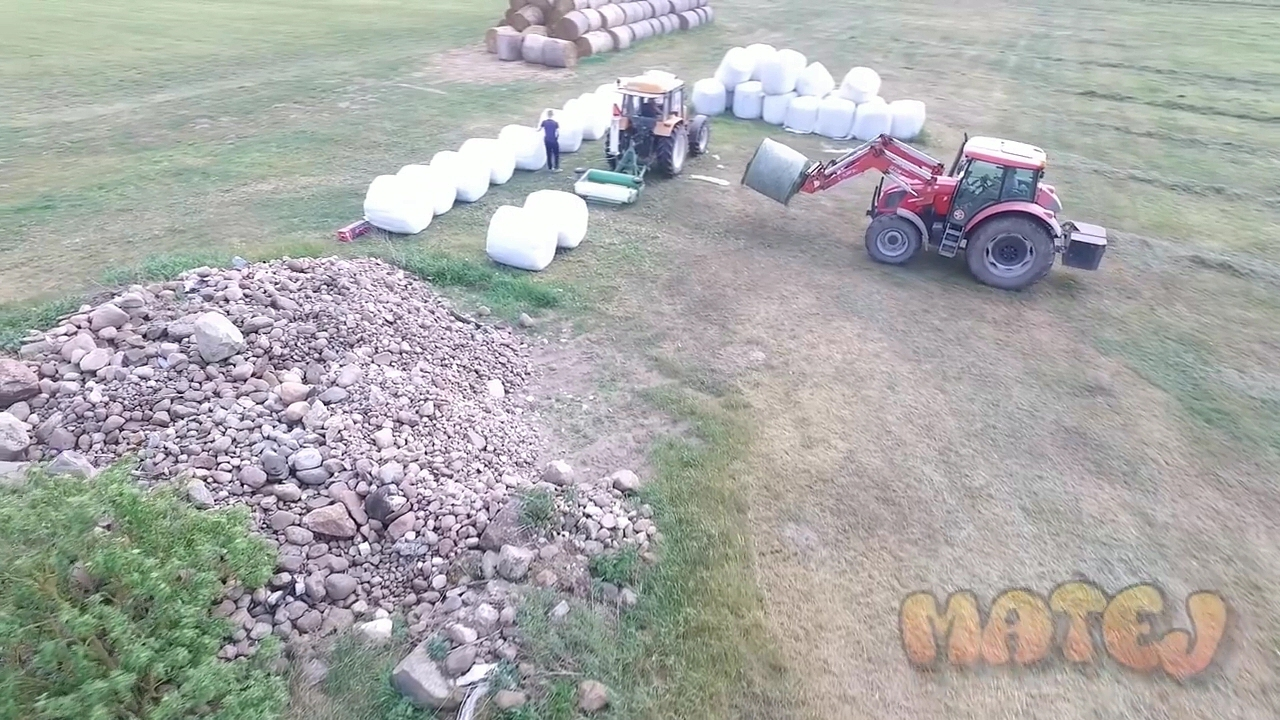insan: (539, 106, 568, 174)
traktor: (796, 130, 1120, 290), (597, 63, 710, 170)
